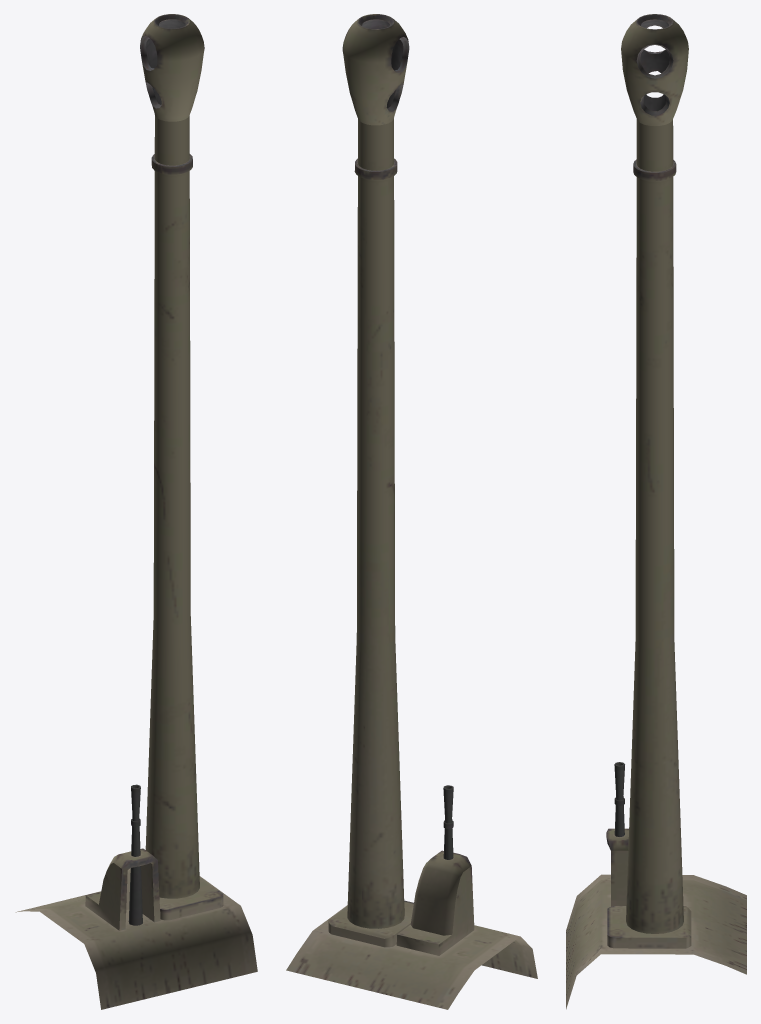
File: Gun_08.glb
3 views of the same model, side by side, from view 1: azimuth 30°, elevation 25°; view 2: azimuth 150°, elevation 25°; view 3: azimuth 270°, elevation 25° (orthographic). The views are drawn at different scales.
Visible parts, largest first — view 1: set_0_group_0; view 2: set_0_group_0; view 3: set_0_group_0.
Part boxes in pixels (x1=…): set_0_group_0: x1=15, y1=14, x2=257, y2=1009; set_0_group_0: x1=286, y1=14, x2=537, y2=1009; set_0_group_0: x1=566, y1=14, x2=746, y2=1009.
Bounding box in the file's own units: 0.5352 × 3.03 × 0.5146.
1 material, 1 textured.
